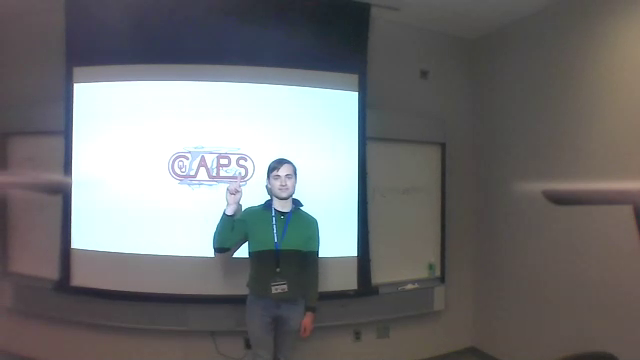up: (220, 170, 245, 205)
